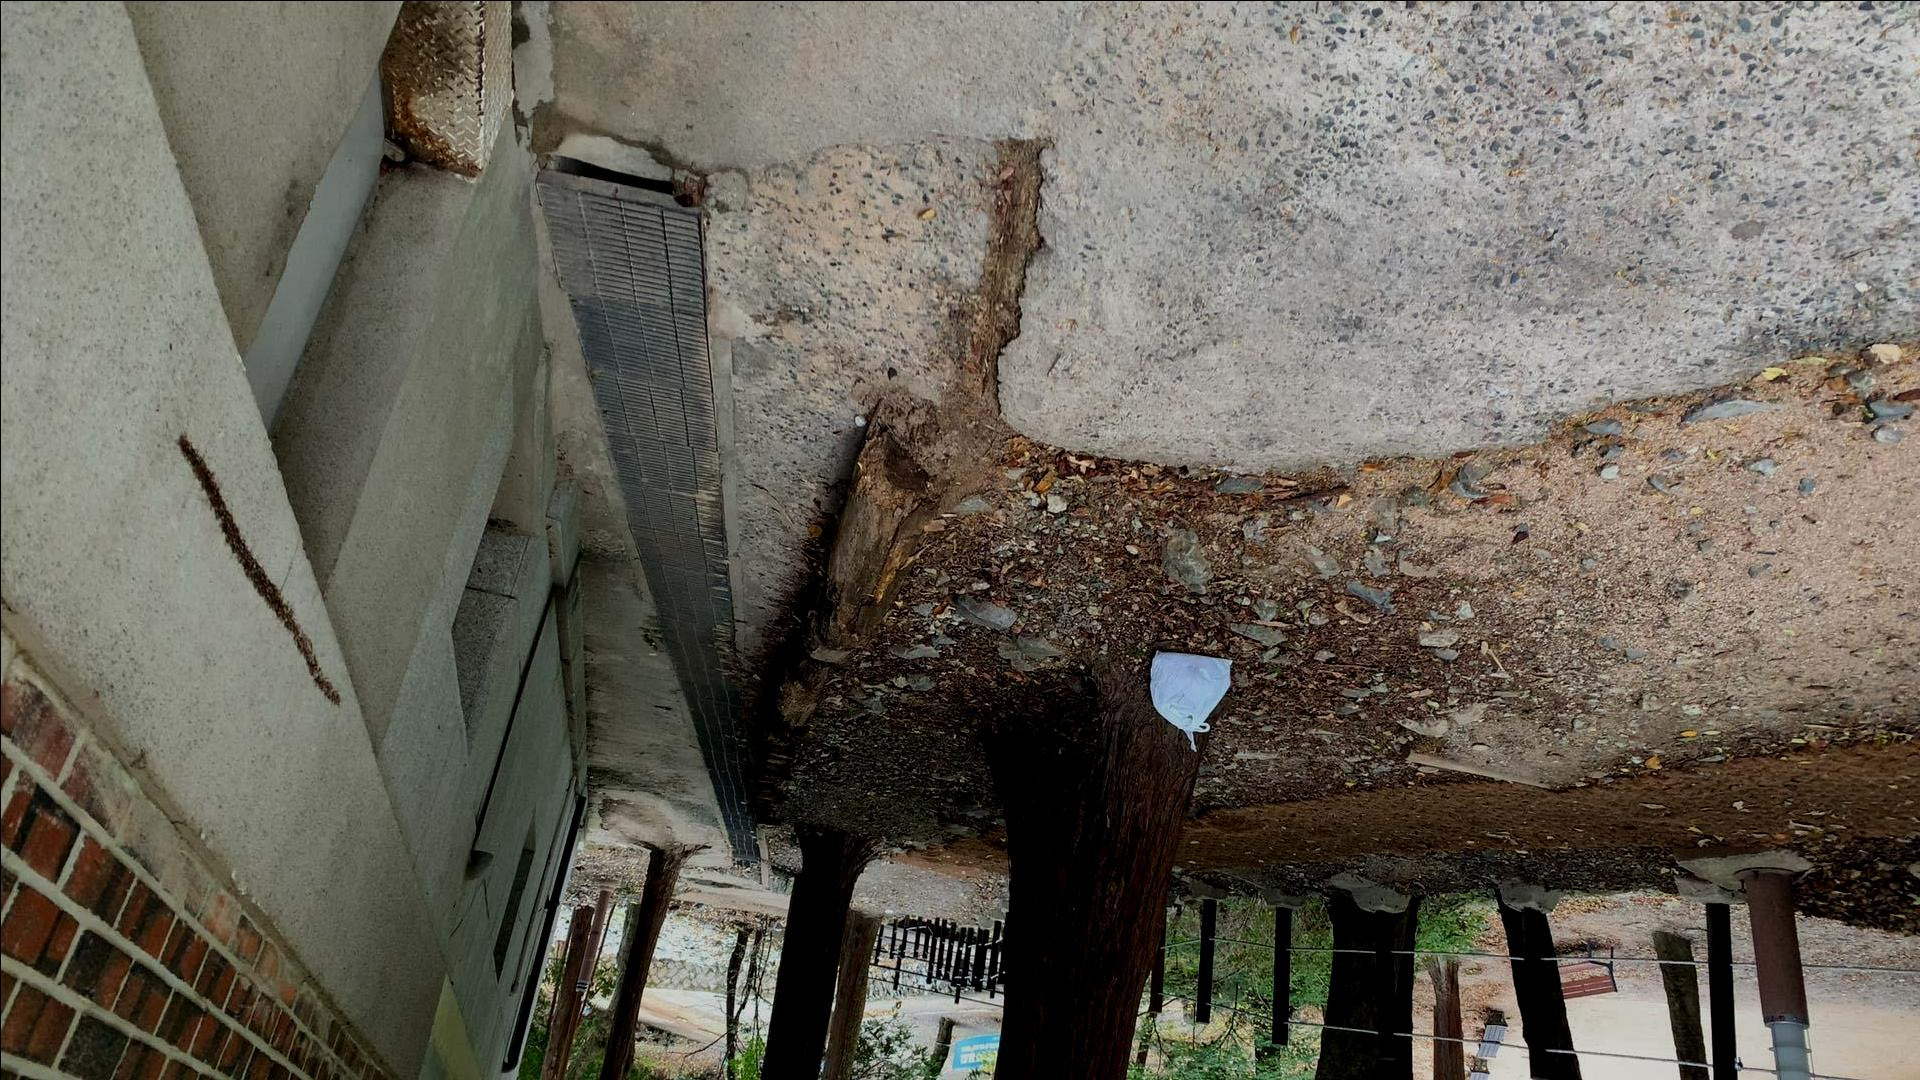white_bag: (1143, 645, 1242, 756)
